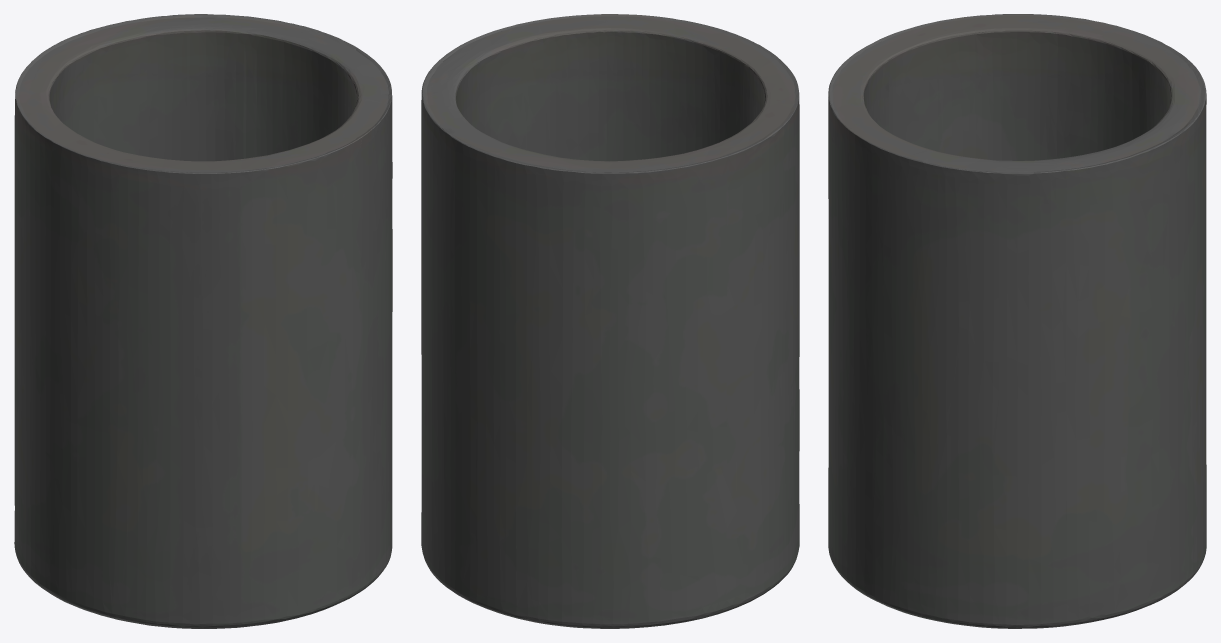
3 renders of one model, left to right at view 1: azimuth 30°, elevation 25°; view 2: azimuth 150°, elevation 25°; view 3: azimuth 270°, elevation 25°, orthographic.
Parts seen in each view (by area): view 1: pen_holder.obj; view 2: pen_holder.obj; view 3: pen_holder.obj.
Boxes of the visible parts, x1,y1,x2,y2 form: pen_holder.obj: [14, 14, 392, 628]; pen_holder.obj: [421, 14, 799, 628]; pen_holder.obj: [828, 14, 1206, 628].
Size of the model in its own units: 0.0872 by 0.1167 by 0.0872.
Materials: 1 (1 with a texture image).
